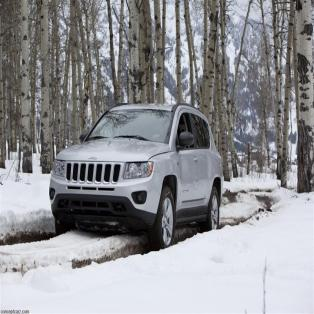Auto: (48, 104, 222, 252)
